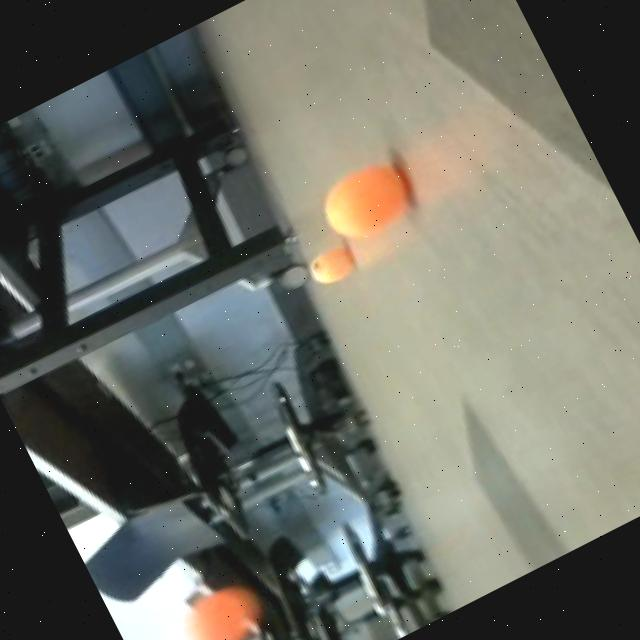ping-pong-ball: (308, 146, 422, 254), (163, 570, 275, 640), (300, 236, 366, 293)
